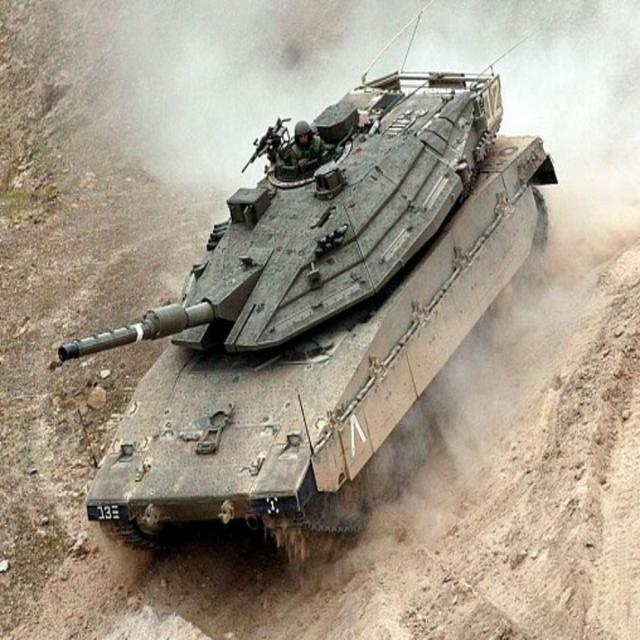MIL_MBT: (56, 72, 558, 550)
